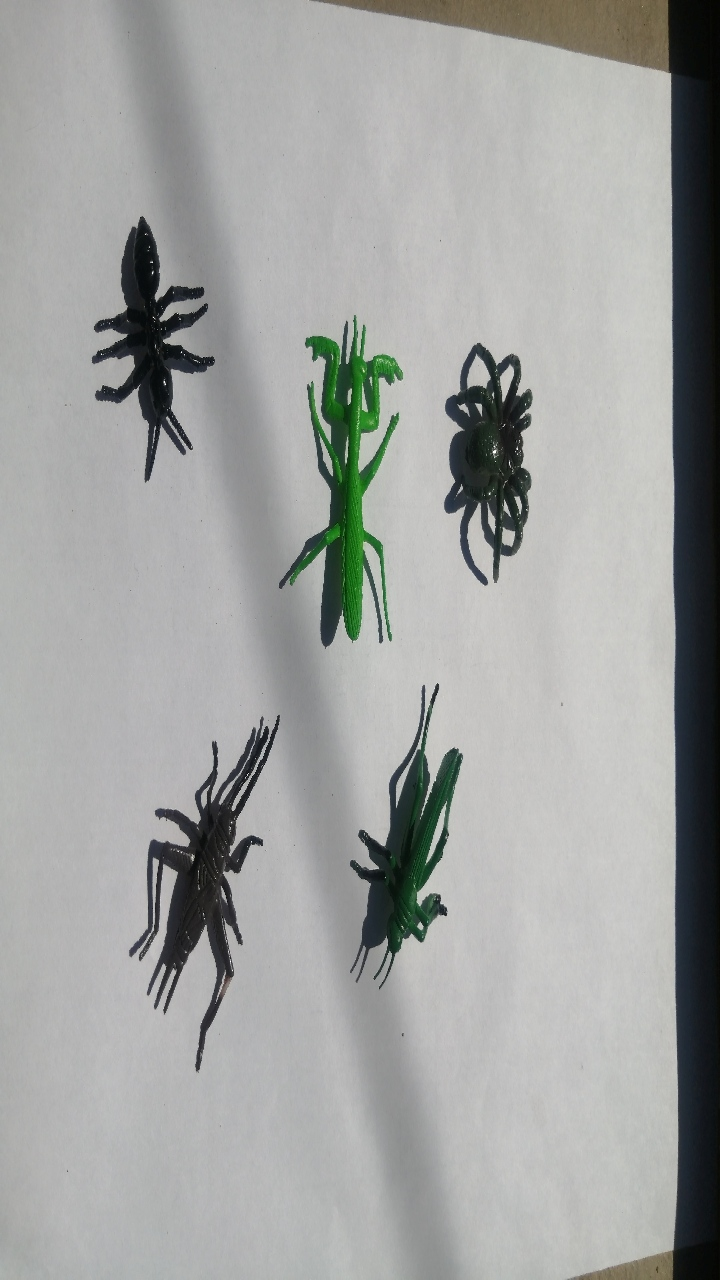intruso: (97, 686, 286, 1072), (48, 172, 243, 508), (261, 265, 414, 666), (323, 672, 497, 1015), (428, 286, 561, 594)
